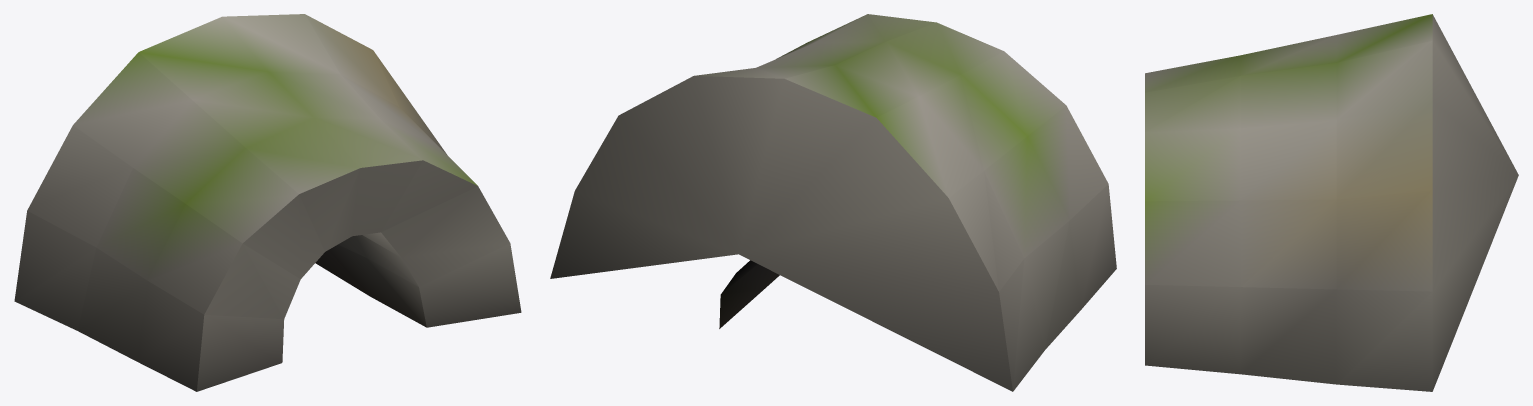
File: cave-mouth-a.lod2.glb
The picture shows the model from 3 angles, left to right: view 1: azimuth 30°, elevation 25°; view 2: azimuth 150°, elevation 25°; view 3: azimuth 270°, elevation 25°; orthographic projection. The views are drawn at different scales.
Size of the model in its own units: 8.78 by 4.67 by 6.5.
